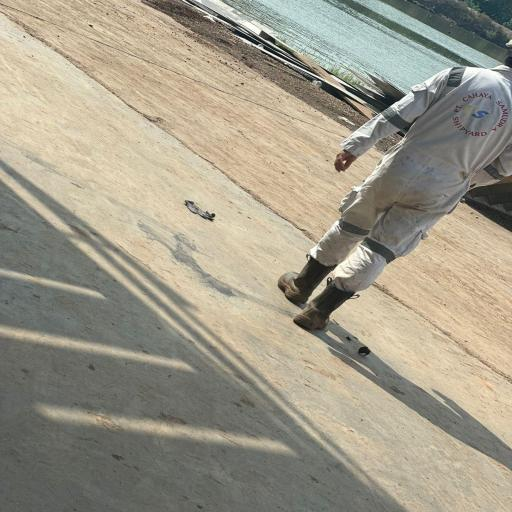safety_shoe: (294, 284, 358, 338), (276, 254, 328, 302)
